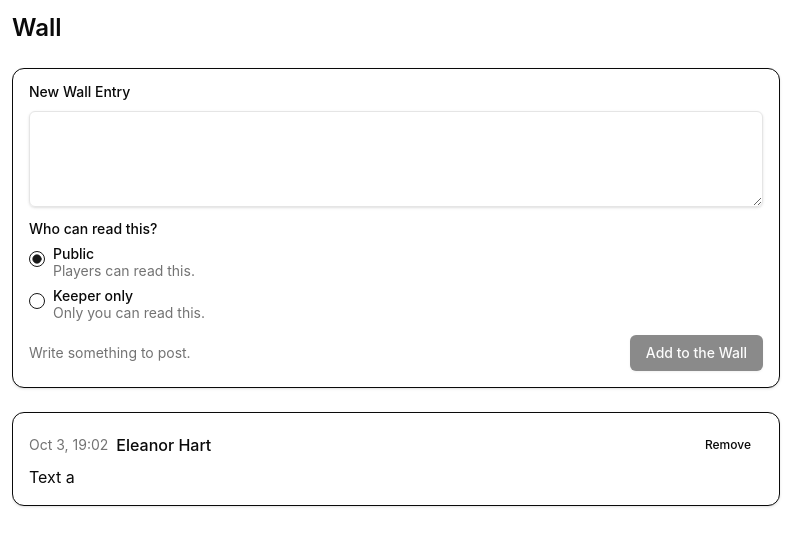
it: CampaignWall › keeps the text and reports the failure when a post fails (WL-UX-6)
Type "Keep me" into the text box labelled "New Wall Entry" at (396, 159), box [29,111,763,207]
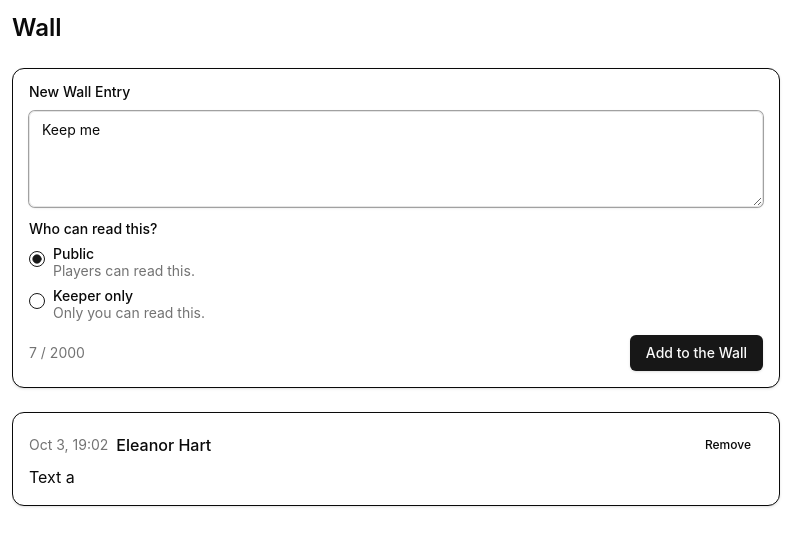
Click the button "Add to the Wall" at (696, 353), box [630,335,763,371]
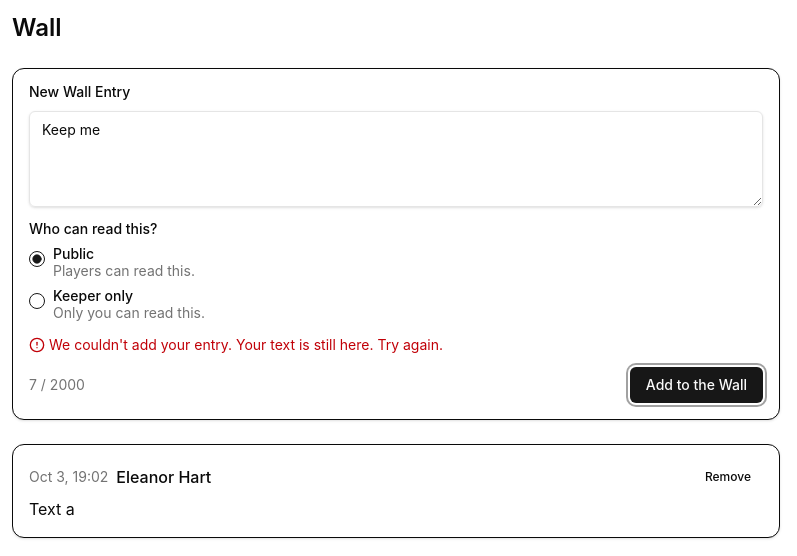
Expected: the message shows "We couldn't add your entry.", [49,336,443,353]
